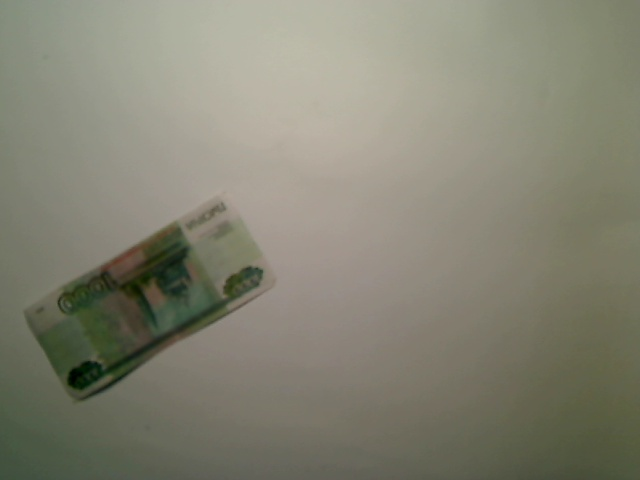banknotes: (21, 191, 284, 405)
